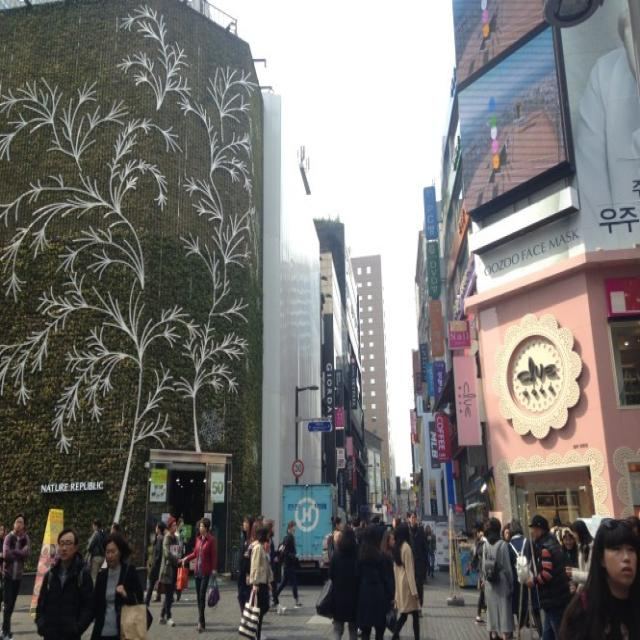body: (554, 513, 639, 639), (89, 528, 154, 639), (33, 524, 96, 638), (522, 510, 576, 639), (314, 524, 362, 638), (178, 514, 221, 634), (478, 514, 518, 639), (352, 527, 396, 640), (507, 517, 545, 640), (0, 510, 32, 639), (391, 519, 422, 640), (155, 512, 184, 630), (463, 516, 493, 620), (506, 520, 533, 632), (247, 524, 272, 640), (275, 518, 305, 611), (248, 523, 274, 630), (562, 517, 596, 596), (235, 510, 257, 620), (406, 509, 429, 608), (157, 520, 184, 604), (144, 518, 168, 609), (266, 520, 286, 613), (470, 518, 489, 613), (85, 517, 106, 592), (320, 513, 344, 571), (560, 526, 578, 569), (378, 528, 398, 566), (424, 522, 437, 580), (0, 522, 5, 612), (379, 516, 407, 528), (624, 515, 640, 536), (109, 521, 121, 535), (551, 513, 562, 526), (357, 514, 366, 528), (417, 519, 424, 531)
